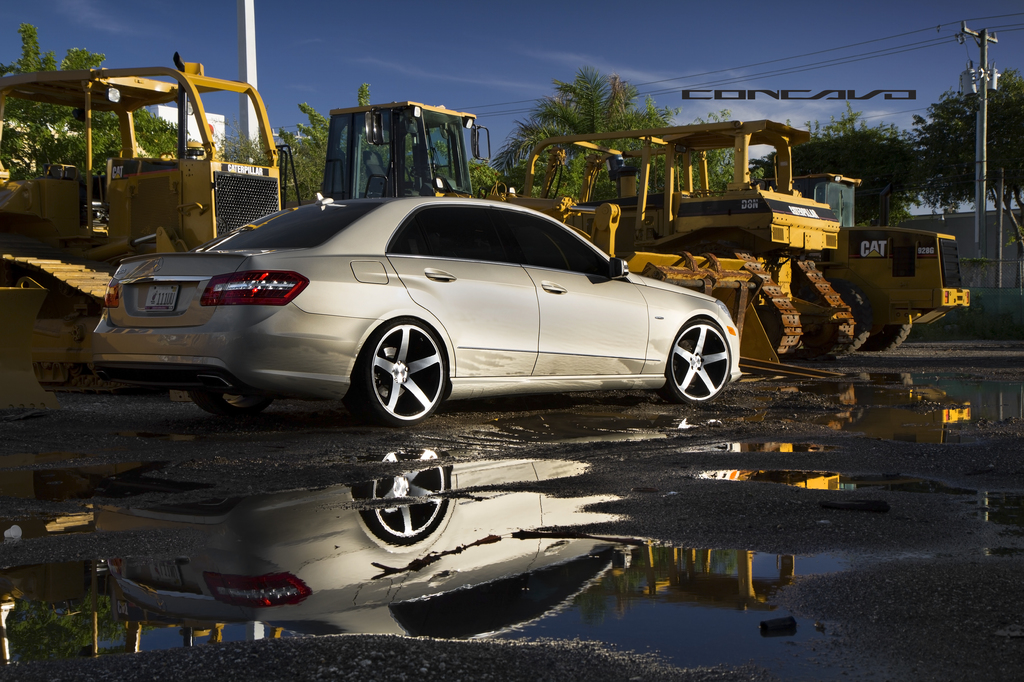Car: (62, 185, 747, 436)
